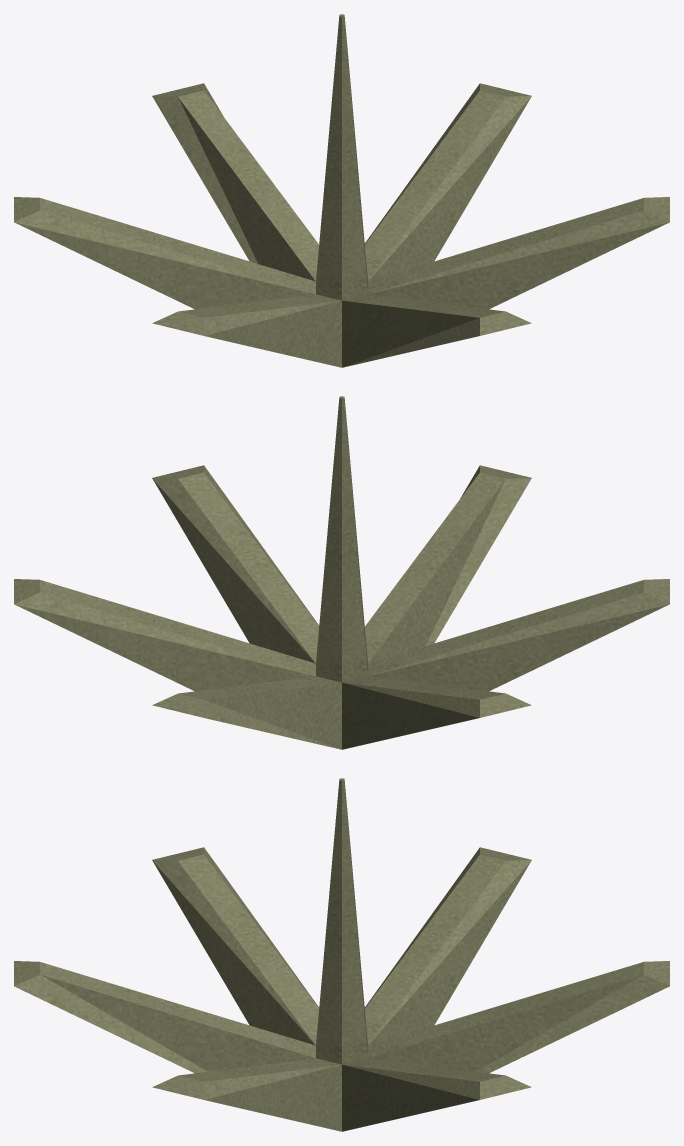
Rendered from bush.gltf.
3 views of the same model, one above another, from view 1: azimuth 30°, elevation 25°; view 2: azimuth 150°, elevation 25°; view 3: azimuth 270°, elevation 25° (orthographic).
Parts seen in each view (by area): view 1: SketchUp; view 2: SketchUp; view 3: SketchUp.
Part boxes in pixels (left/top/right/bottom): SketchUp: left=14, top=14, right=669, bottom=367; SketchUp: left=14, top=396, right=669, bottom=749; SketchUp: left=14, top=778, right=669, bottom=1131.
Bounding box in the file's own units: 1.99 × 1.2 × 2.18.
1 material, 1 textured.
